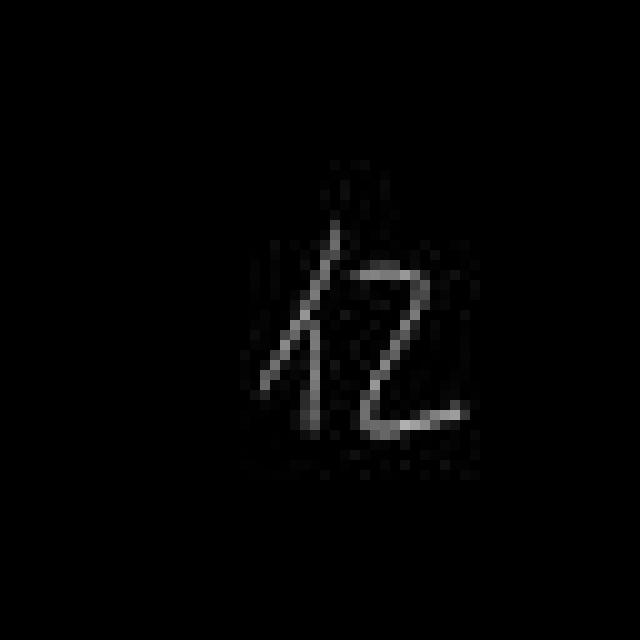100000 -a hundred thousand-: (251, 214, 476, 454)
